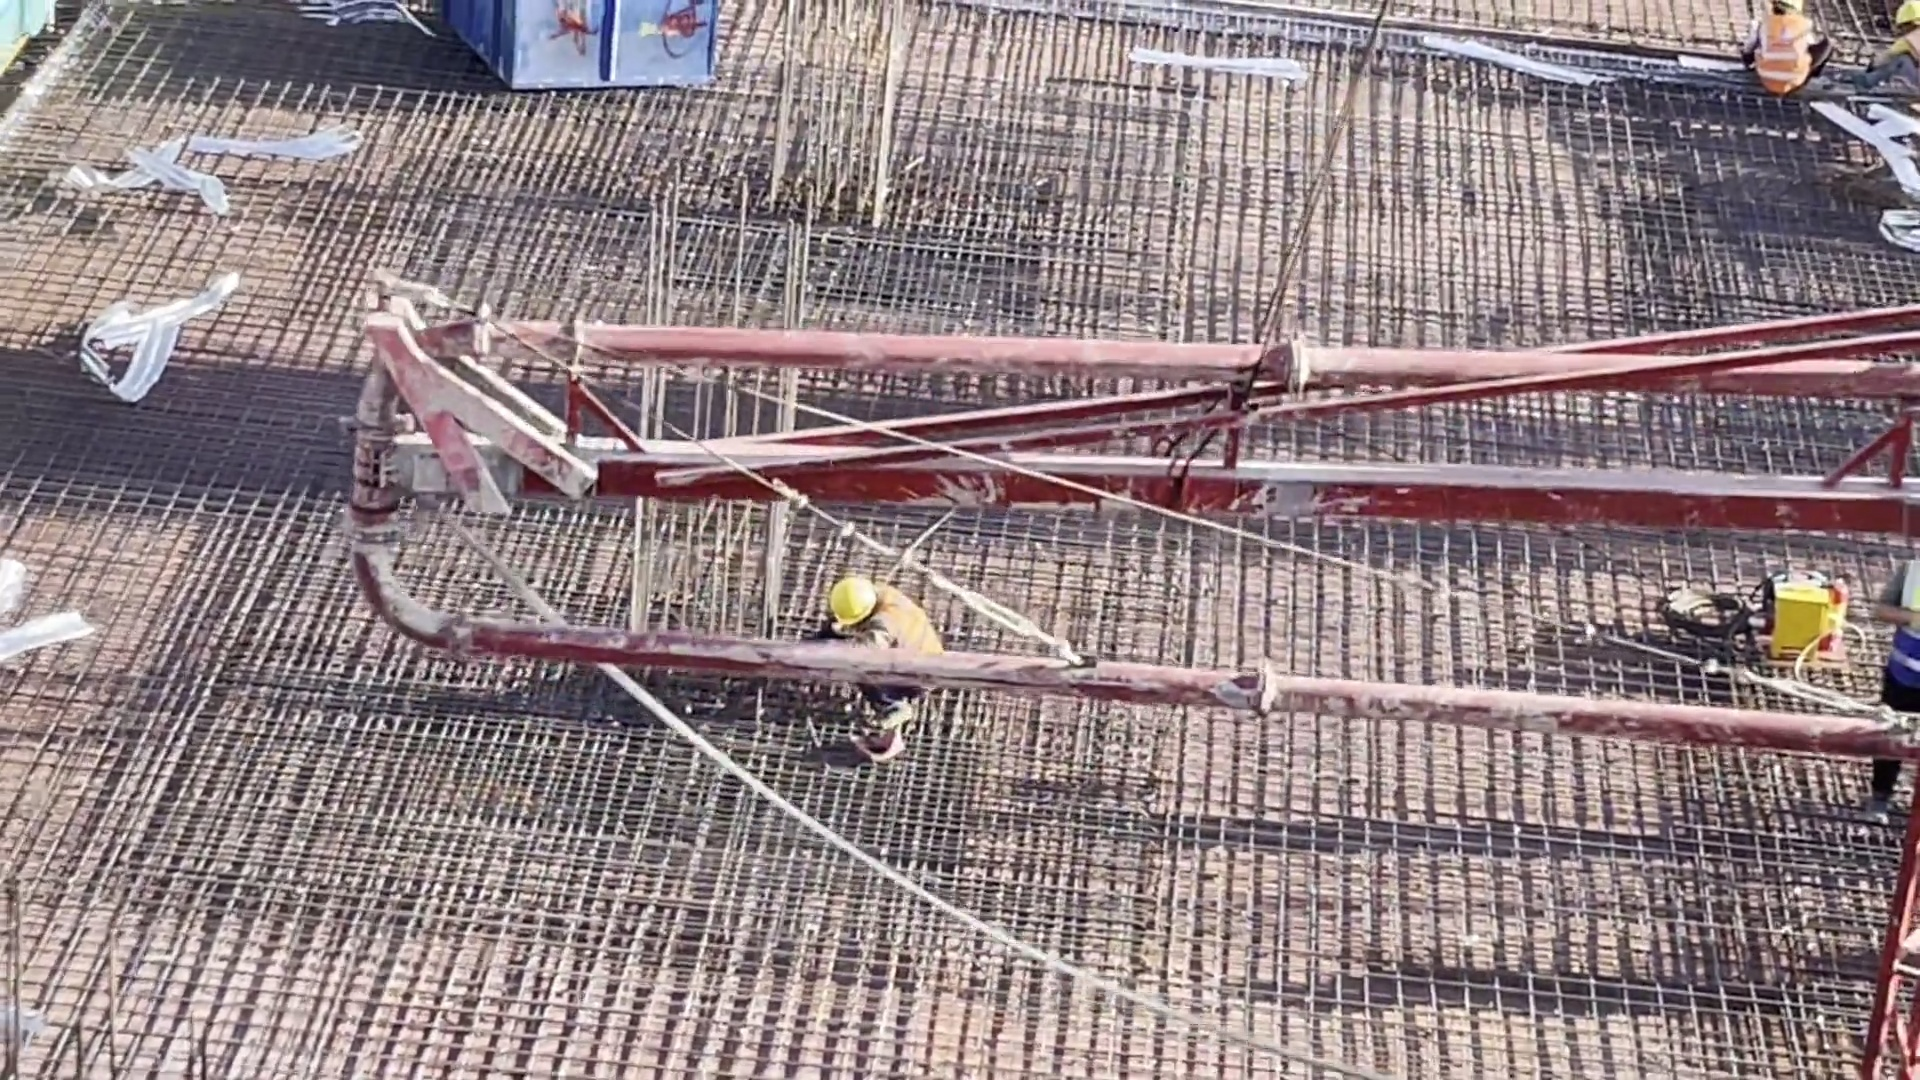helmet: (1894, 3, 1920, 29)
hopper: (486, 1, 705, 94)
person: (824, 579, 953, 773), (1858, 545, 1920, 814), (1733, 1, 1828, 111), (1871, 3, 1920, 114)
vest: (1878, 570, 1920, 689), (1758, 32, 1813, 94), (885, 601, 938, 656)
